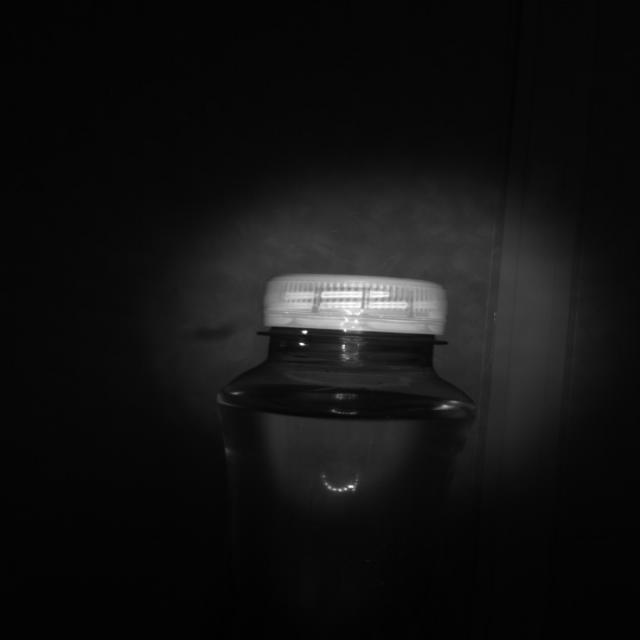Good: (258, 269, 452, 339)
